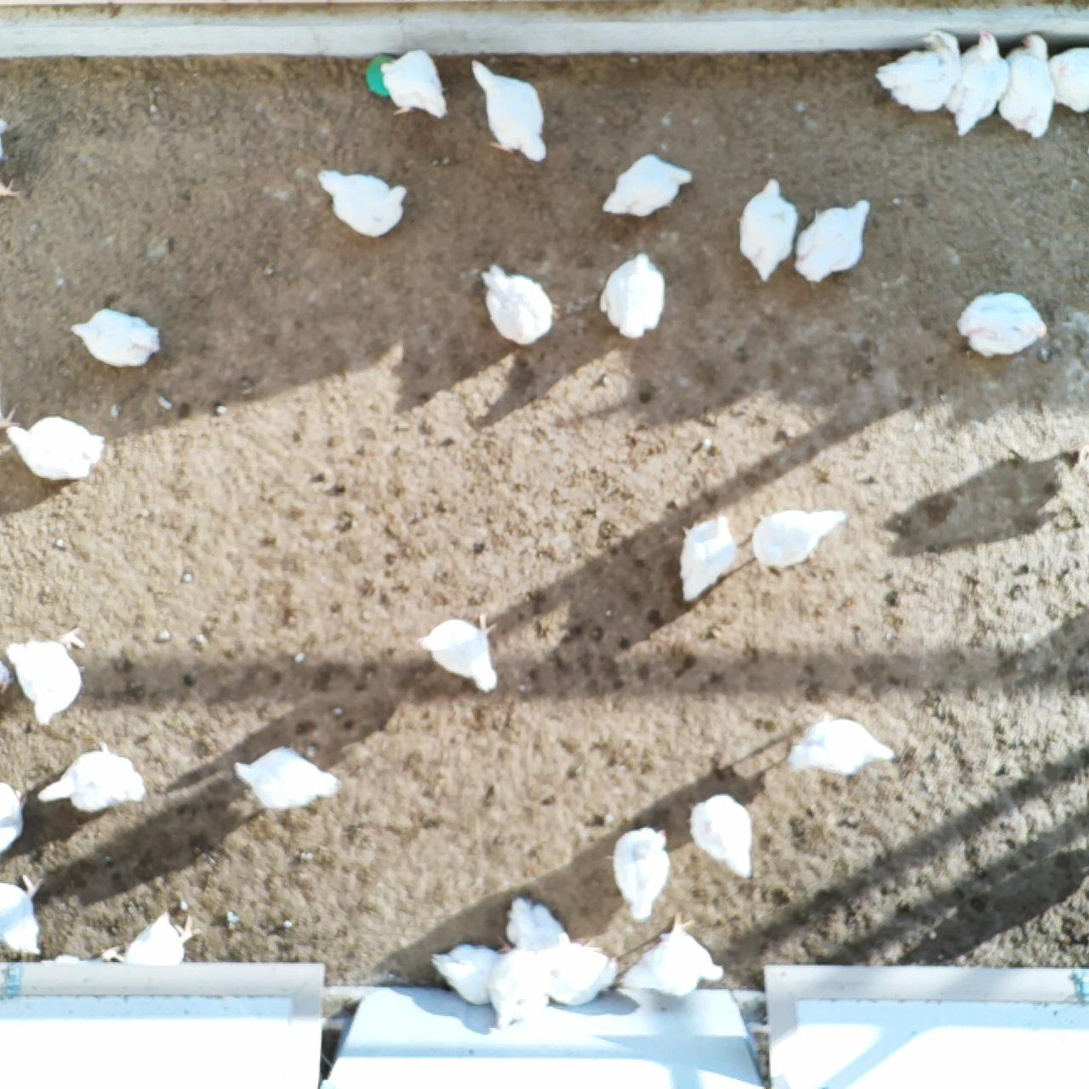chicken: (5, 628, 94, 731), (38, 740, 152, 815), (471, 55, 550, 163), (6, 405, 112, 485), (938, 27, 1014, 138), (231, 743, 344, 817), (870, 31, 964, 117), (615, 924, 727, 996), (793, 189, 875, 287), (315, 165, 412, 247), (419, 607, 505, 697), (787, 712, 899, 778), (991, 31, 1058, 140), (478, 260, 556, 352), (597, 150, 698, 220), (685, 788, 759, 882), (749, 501, 848, 571), (737, 176, 802, 282), (604, 823, 674, 921), (951, 290, 1049, 359), (598, 249, 668, 341), (533, 935, 619, 1008), (676, 515, 744, 604), (114, 905, 200, 974), (68, 305, 160, 368), (489, 942, 554, 1031), (376, 44, 447, 124), (429, 943, 511, 1006), (496, 892, 577, 954), (0, 870, 46, 955), (1043, 44, 1089, 113), (0, 778, 26, 855)
